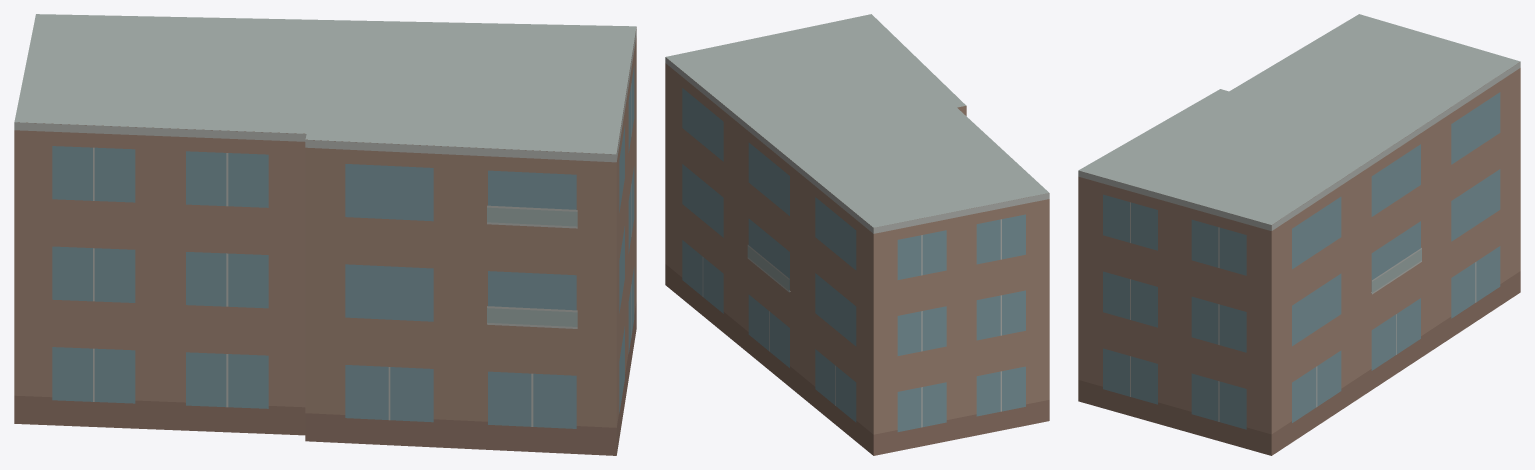
File: survey-upis-32986548.glb
The picture shows the model from 3 angles, left to right: view 1: azimuth 30°, elevation 25°; view 2: azimuth 150°, elevation 25°; view 3: azimuth 270°, elevation 25°; orthographic projection. The views are drawn at different scales.
Parts seen in each view (by area): view 1: survey-upis-32986548.tmp; view 2: survey-upis-32986548.tmp; view 3: survey-upis-32986548.tmp.
Part boxes in pixels (x1,y1,x2,y2): survey-upis-32986548.tmp: (14,14,636,455); survey-upis-32986548.tmp: (665,14,1049,455); survey-upis-32986548.tmp: (1078,14,1520,455).
Bounding box in the file's own units: 17.95 × 9.15 × 15.9.
